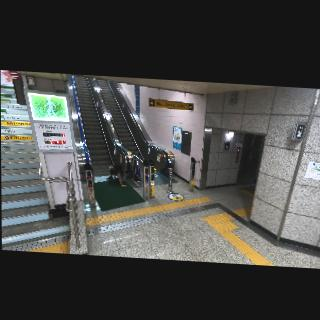anomaly: (107, 160, 128, 187)
